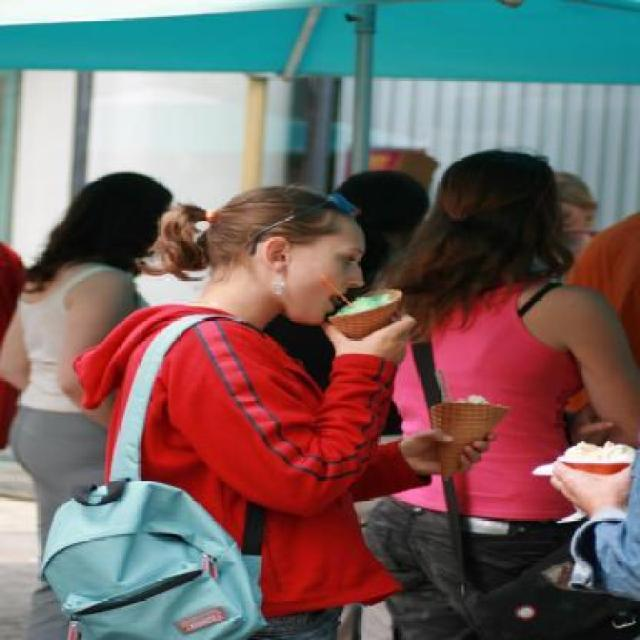backpack: (38, 472, 270, 640)
